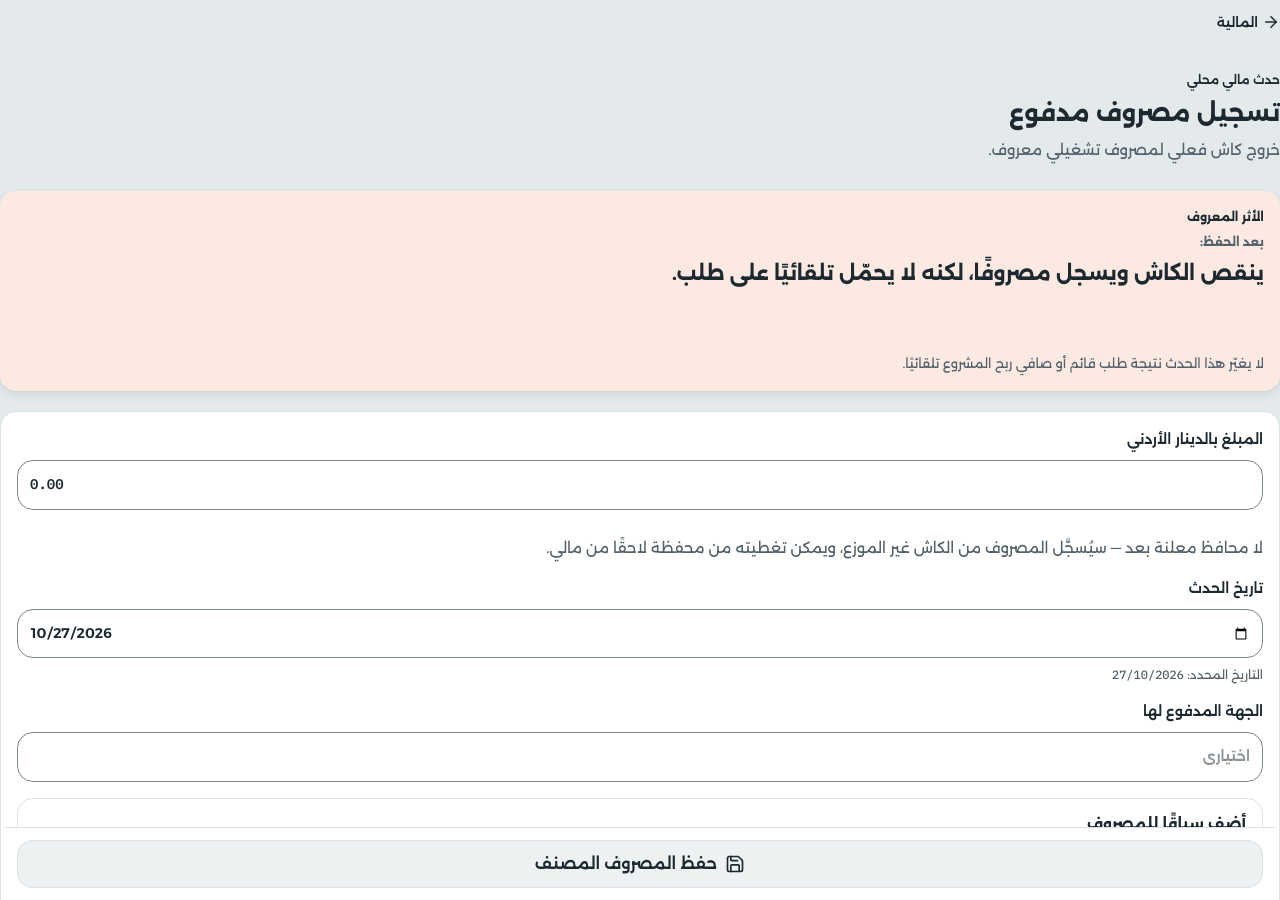
Scenario: FinancialEventEditor save honesty (U-02) › tells the truth when a second save hits the same idempotency key: the edit was NOT saved
In the field labelled "المبلغ بالدينار الأردني": point(640, 485) [17,460,1263,510], type "25"
(page scrolled)
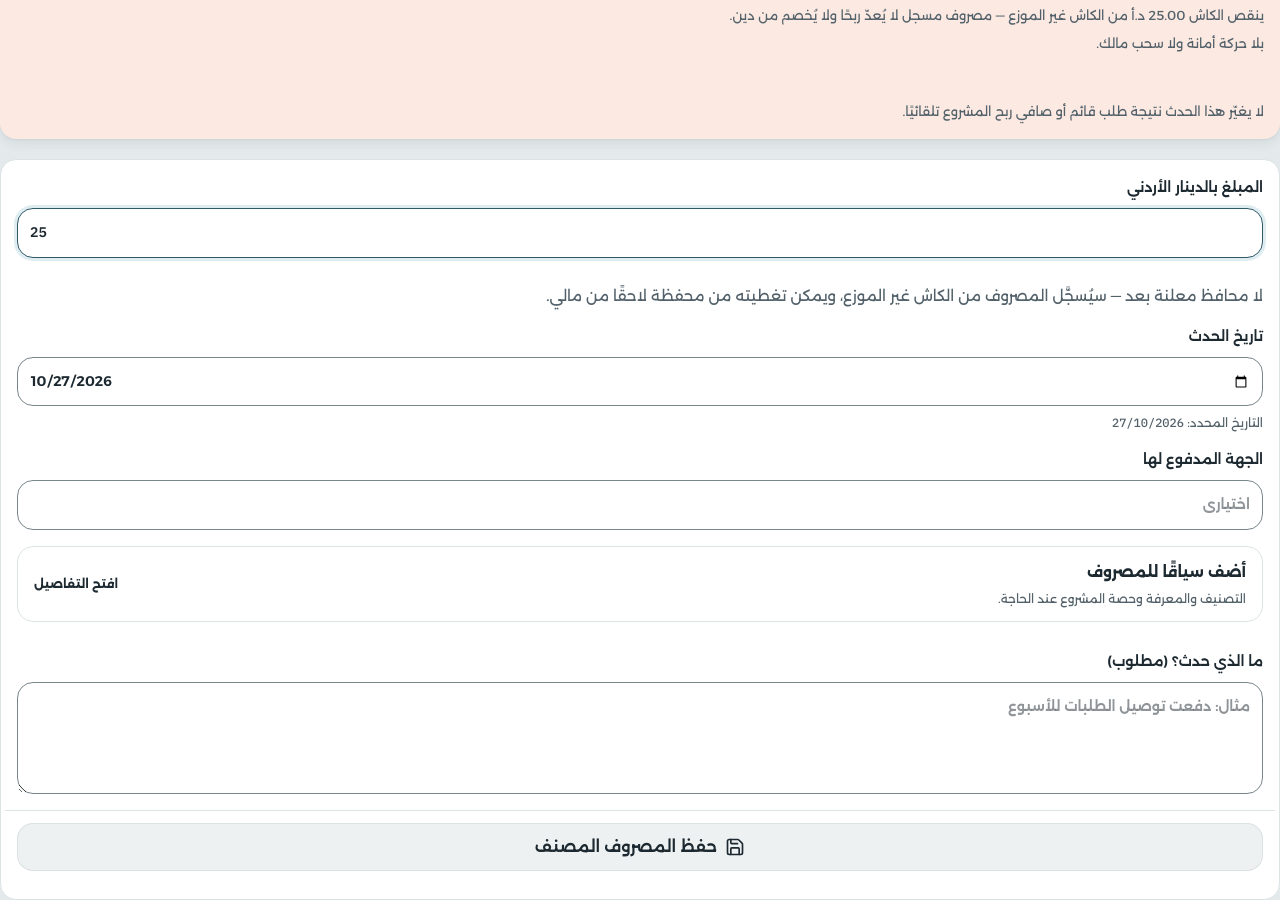
In the text box with placeholder "مثال: دفعت توصيل الطلبات للأسبوع": point(640, 738) [17,682,1263,794], type "توصيل الطلبات"
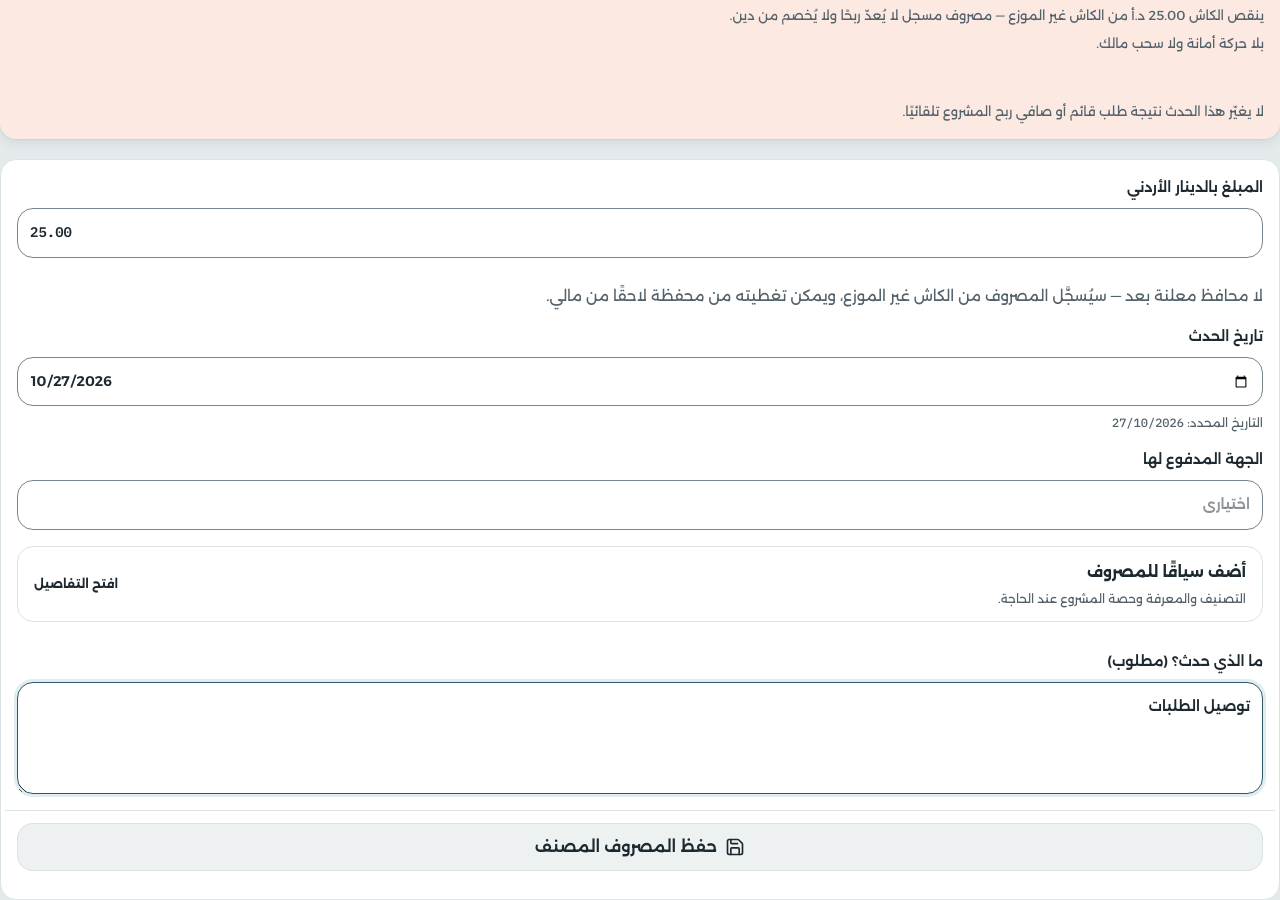
Click the button "حفظ المصروف المصنف": point(640, 847) [17,823,1263,871]
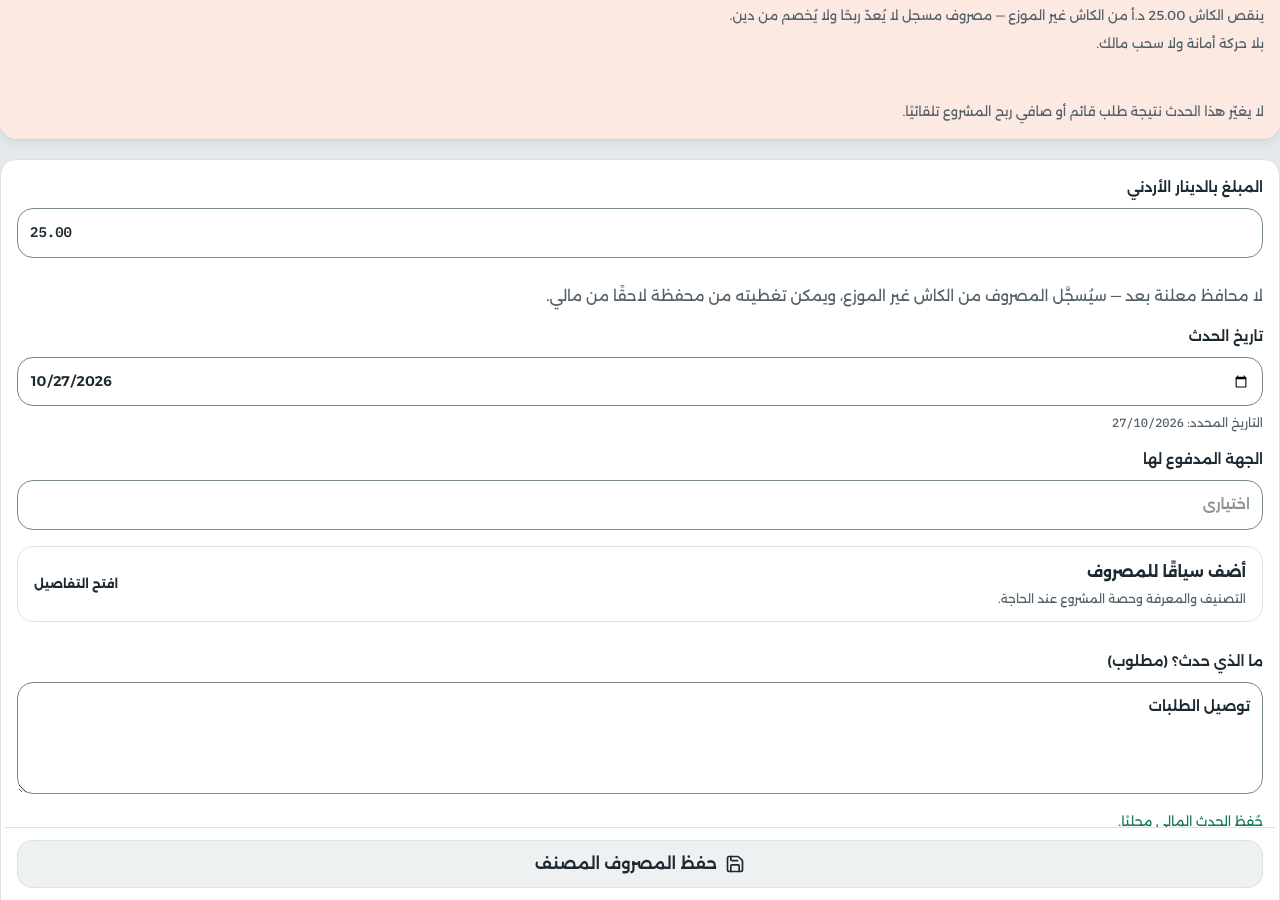
Click the button "حفظ المصروف المصنف": point(640, 864) [17,840,1263,888]
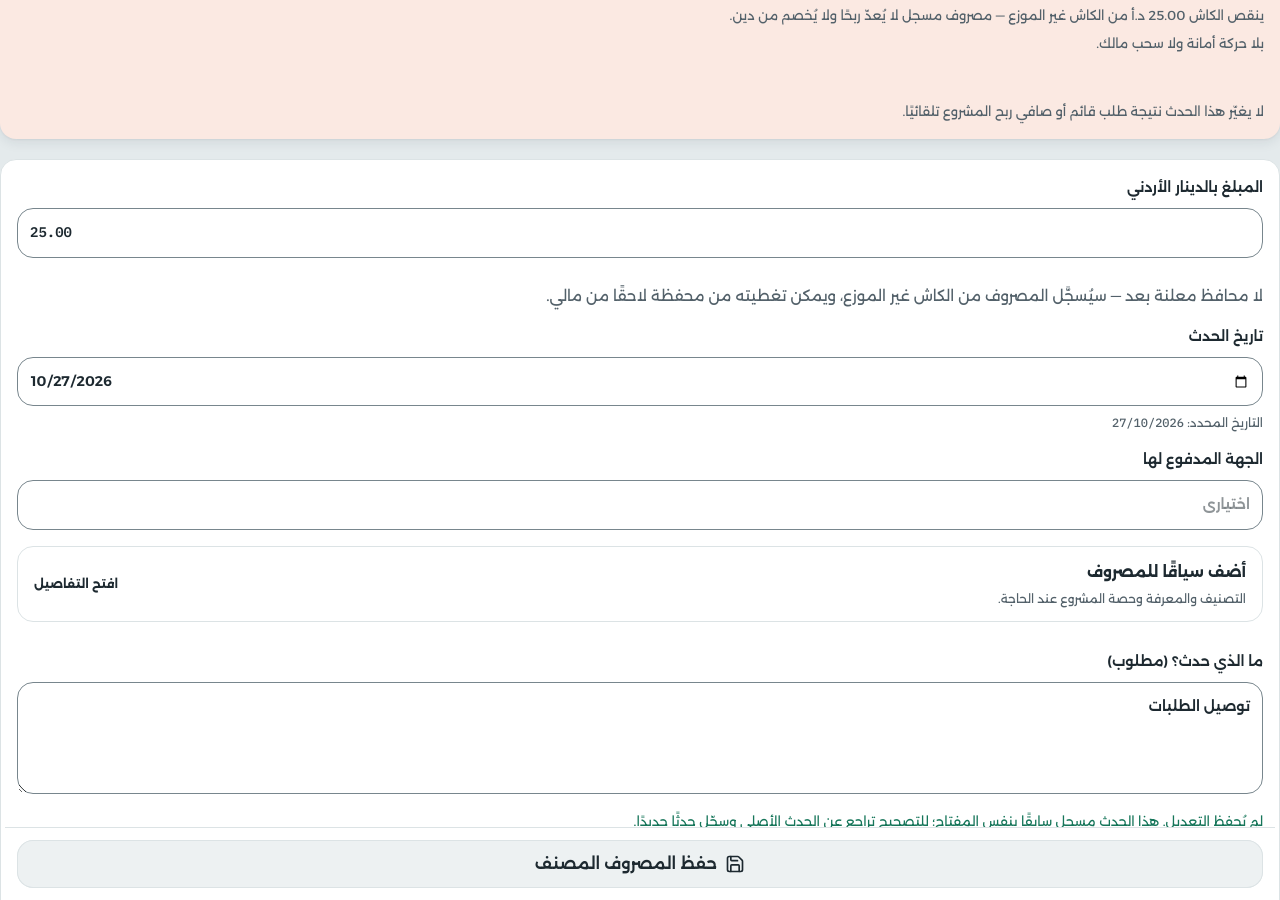
Now the text "تراجع عن الحدث الأصلي وسجّل حدثًا جديدًا" is shown, box [634,813,1263,829]
